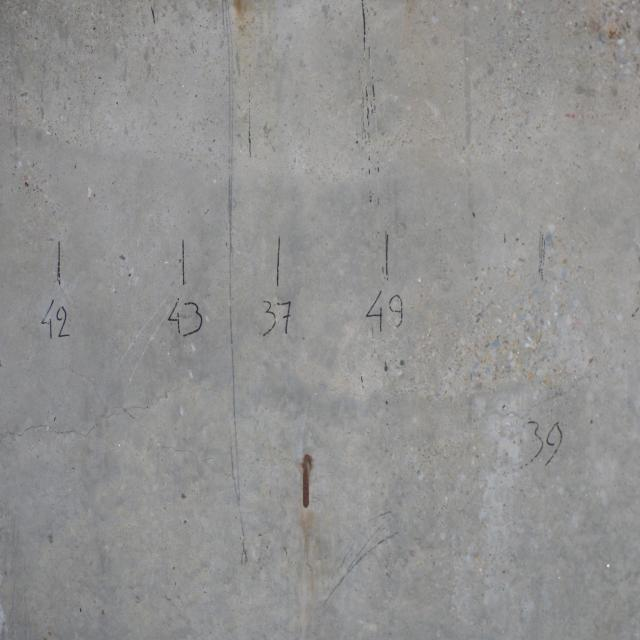corrosion: (291, 442, 324, 589)
